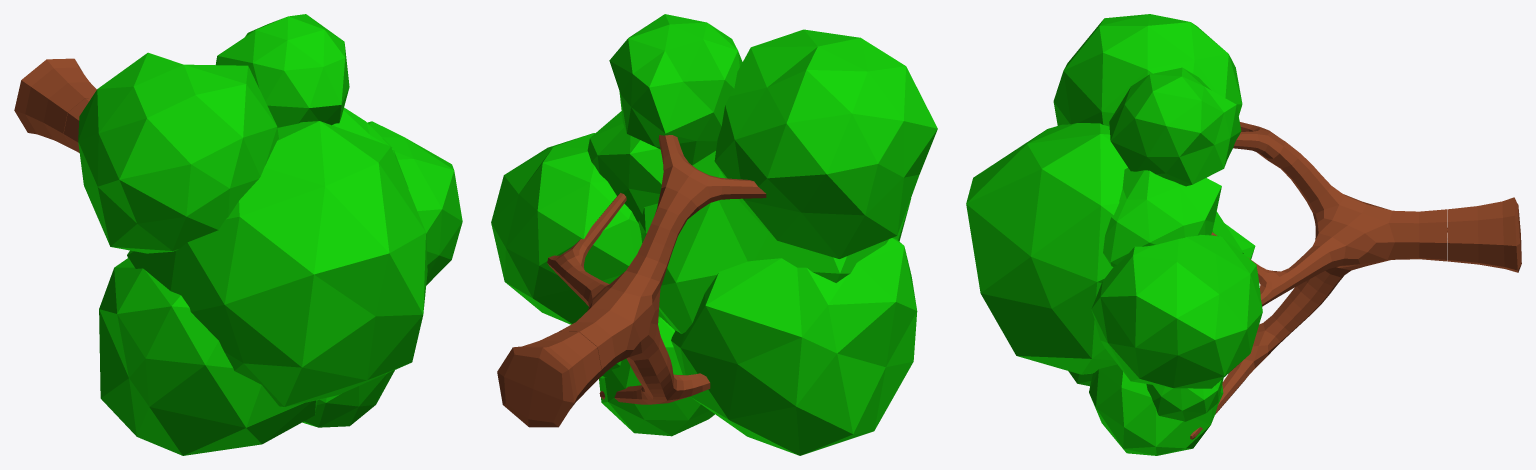
File: TreeHalf.fbx
The picture shows the model from 3 angles, left to right: view 1: azimuth 30°, elevation 25°; view 2: azimuth 150°, elevation 25°; view 3: azimuth 270°, elevation 25°; orthographic projection. The views are drawn at different scales.
Parts seen in each view (by area): view 1: Icosphere.109, Icosphere.110; view 2: Icosphere.109, Icosphere.110; view 3: Icosphere.109, Icosphere.110.
Boxes of the visible parts, left/top/right/bottom form: Icosphere.109: left=63, top=14, right=462, bottom=455; Icosphere.110: left=14, top=58, right=96, bottom=149; Icosphere.109: left=491, top=14, right=937, bottom=455; Icosphere.110: left=497, top=331, right=601, bottom=427; Icosphere.109: left=966, top=14, right=1447, bottom=455; Icosphere.110: left=1447, top=197, right=1521, bottom=272.
Bounding box in the file's own units: 915 × 928 × 1286.
